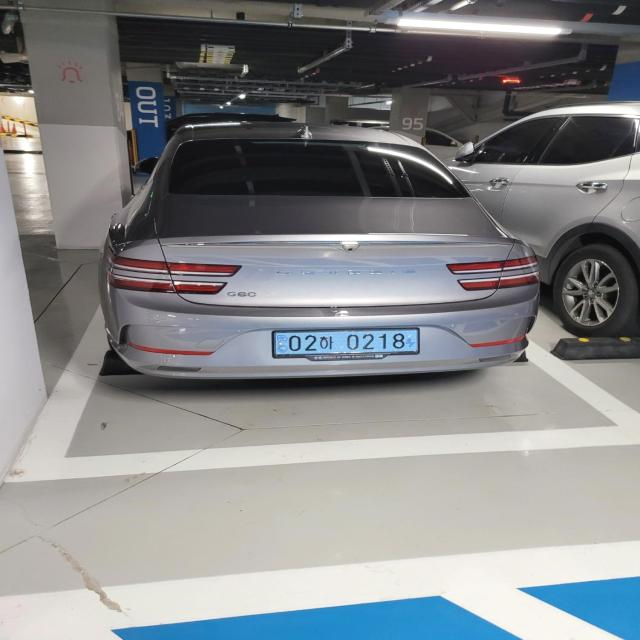EV_plate: (270, 324, 425, 363)
car: (91, 119, 549, 383)
